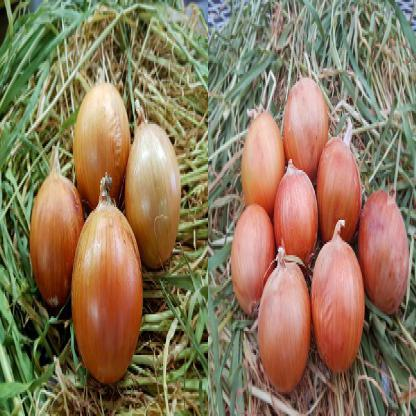onion: (75, 212, 142, 382), (124, 126, 183, 260), (74, 72, 130, 209), (29, 174, 90, 299), (310, 131, 364, 231), (310, 255, 365, 353), (363, 196, 409, 287), (260, 274, 308, 358), (285, 74, 329, 165), (237, 192, 271, 309), (272, 157, 314, 246), (245, 116, 282, 208)
